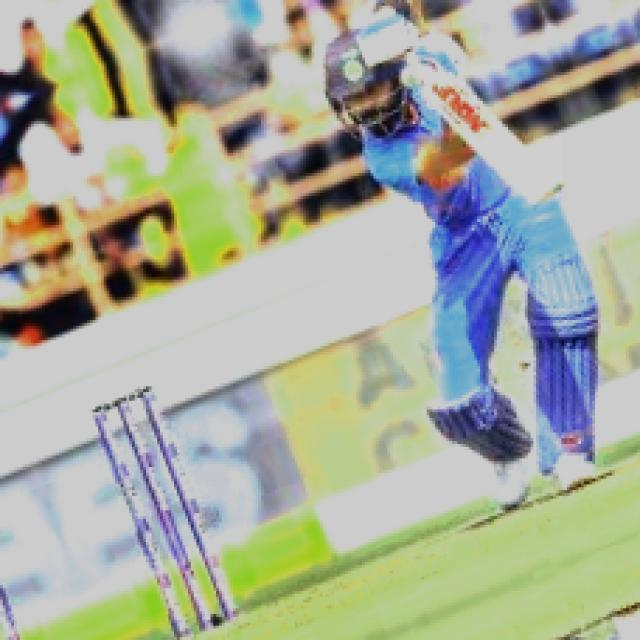bat: (389, 43, 576, 213)
toe: (536, 171, 571, 209)
